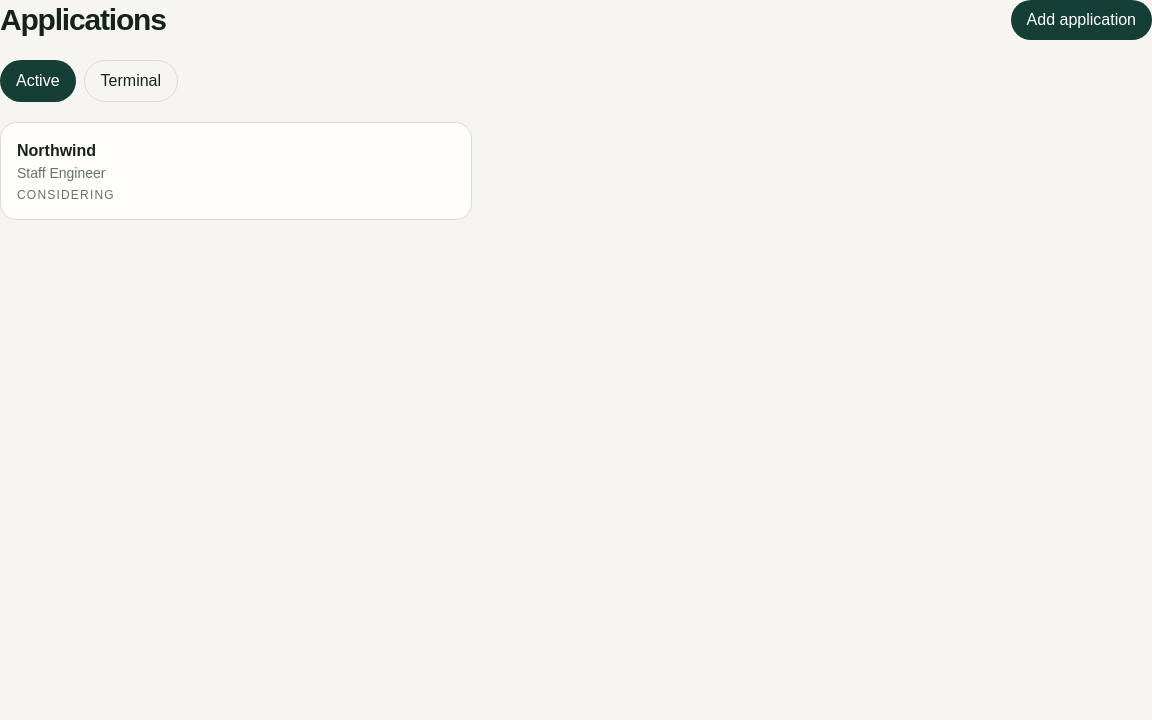
Test: ApplicationsView › adds a note and refreshes the timeline with the server's persisted event, showing nextInterviewAt as a distinct fact
Click the button "Northwind Staff Engineer considering": coordinates (57, 150) left=0, top=122, right=472, bottom=220
(page scrolled)
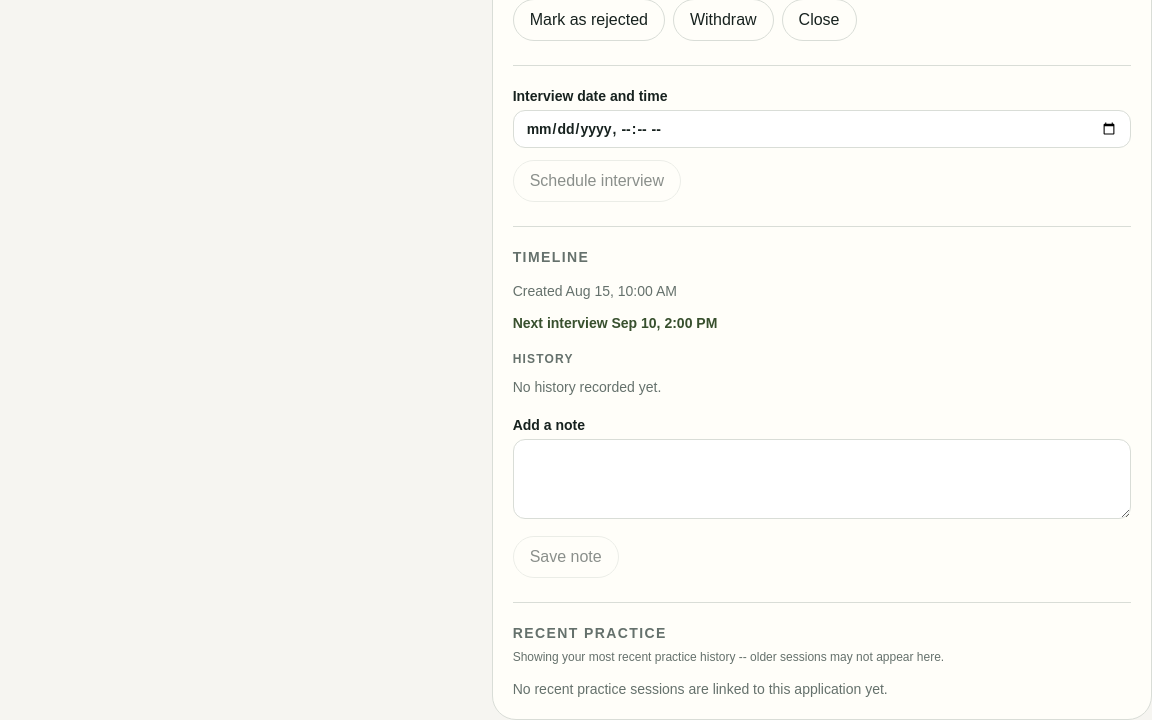
In the text box labelled "Add a note": coordinates (822, 479) left=513, top=439, right=1131, bottom=519, type "Recruiter confirmed the loop."
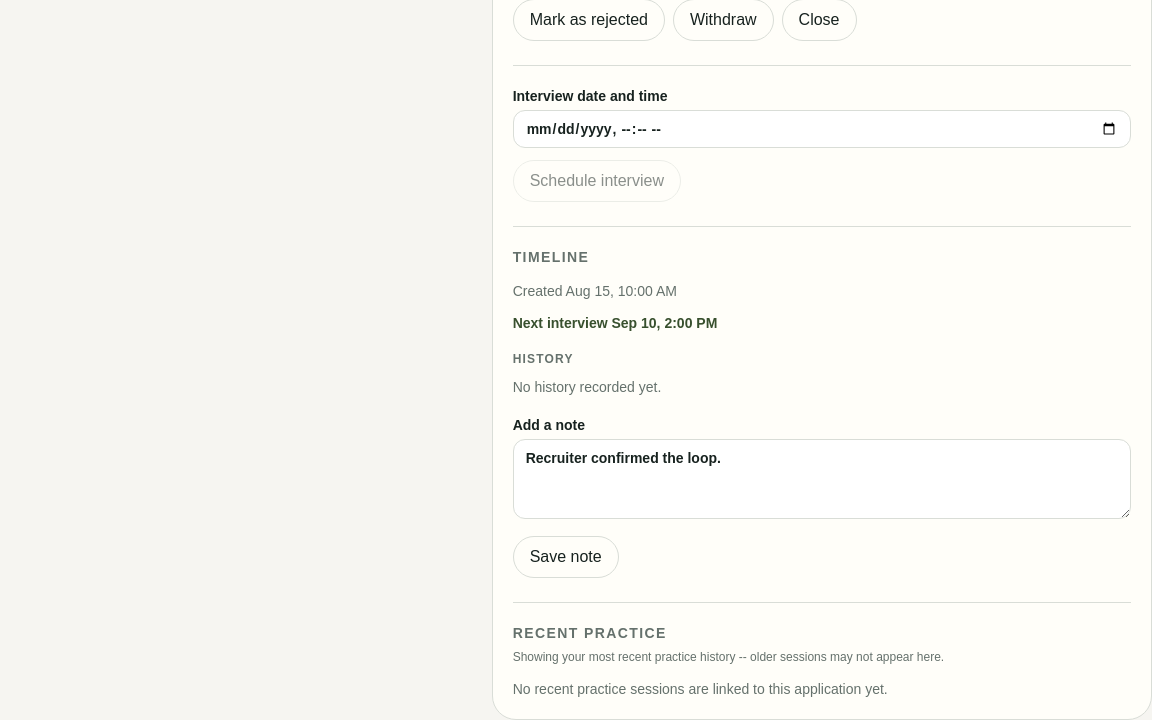
Click the button "Save note": coordinates (566, 557) left=513, top=536, right=619, bottom=578
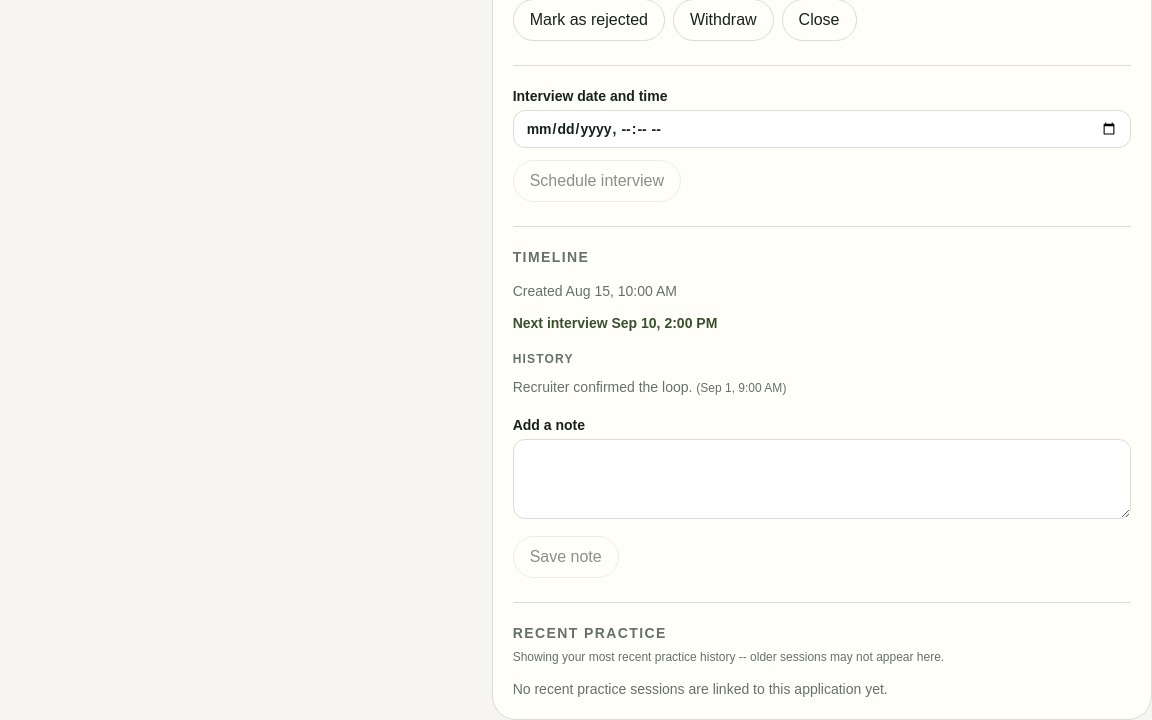
Expected: the list item "Next interview Sep 10, 2:00 PM" is shown, left=513, top=315, right=717, bottom=331
Expected: the list item "Recruiter confirmed the loop." is shown, left=513, top=379, right=692, bottom=395
